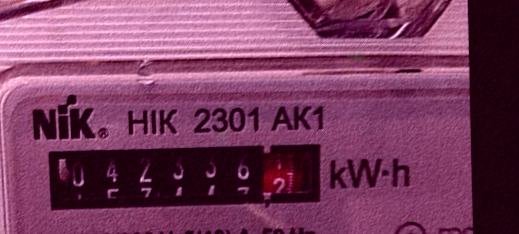0: (68, 162, 85, 191)
1: (271, 152, 283, 174)
2: (136, 157, 152, 186), (269, 178, 286, 196)
3: (200, 152, 216, 183), (168, 155, 183, 183)
4: (102, 157, 119, 186)
6: (234, 154, 251, 184)
screen: (35, 134, 333, 221)
